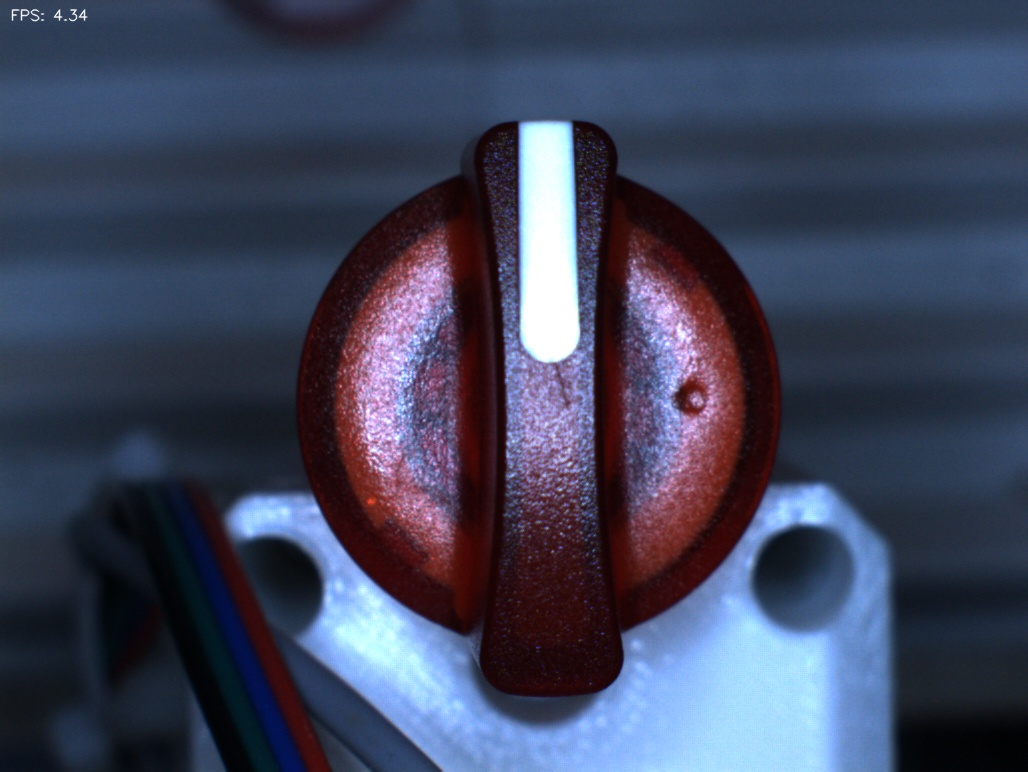Choc: (644, 345, 738, 439)
